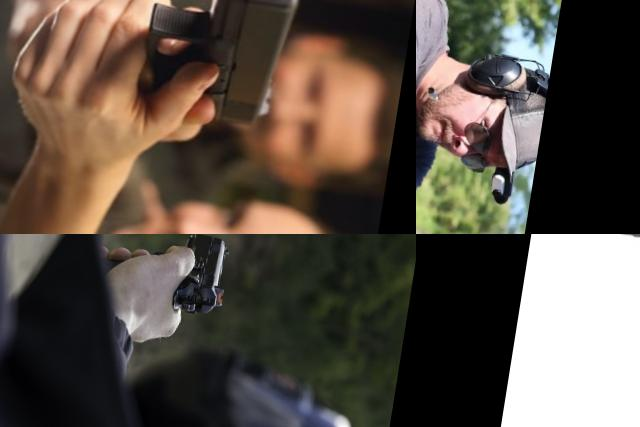handgun: (118, 0, 318, 141), (562, 234, 640, 427), (84, 234, 239, 321)
